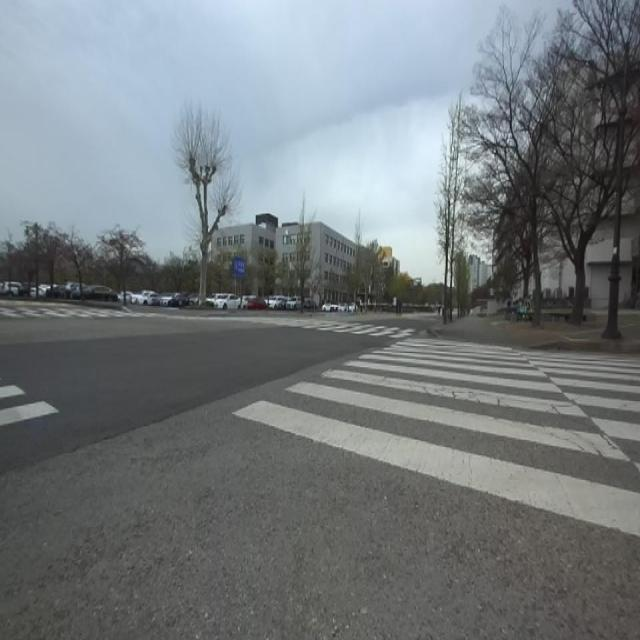sidewalk: (435, 317, 554, 347), (543, 329, 604, 339)
